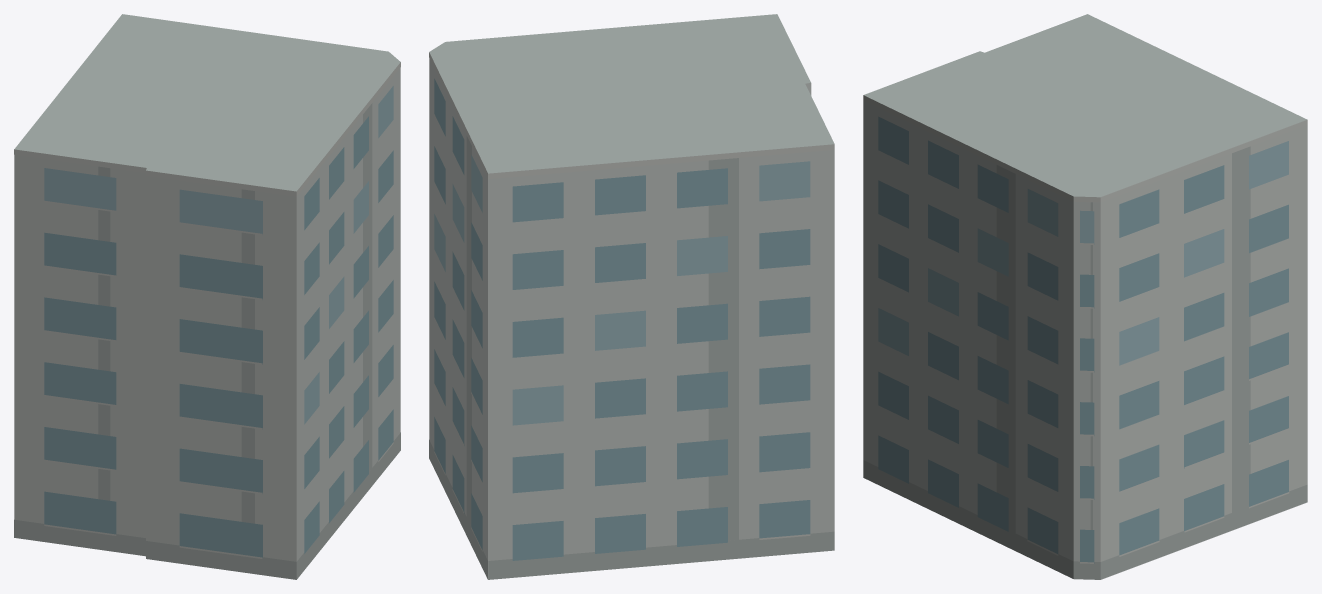
The model's file is survey-upis-33020391.glb.
The picture shows the model from 3 angles, left to right: view 1: azimuth 30°, elevation 25°; view 2: azimuth 150°, elevation 25°; view 3: azimuth 270°, elevation 25°; orthographic projection. The views are drawn at different scales.
Parts seen in each view (by area): view 1: survey-upis-33020391.tmp; view 2: survey-upis-33020391.tmp; view 3: survey-upis-33020391.tmp.
Part boxes in pixels (bbox=[...]): survey-upis-33020391.tmp: bbox=[14, 14, 400, 579]; survey-upis-33020391.tmp: bbox=[429, 14, 834, 579]; survey-upis-33020391.tmp: bbox=[863, 14, 1307, 579].
Bounding box in the file's own units: 17.98 × 17.5 × 18.42.
